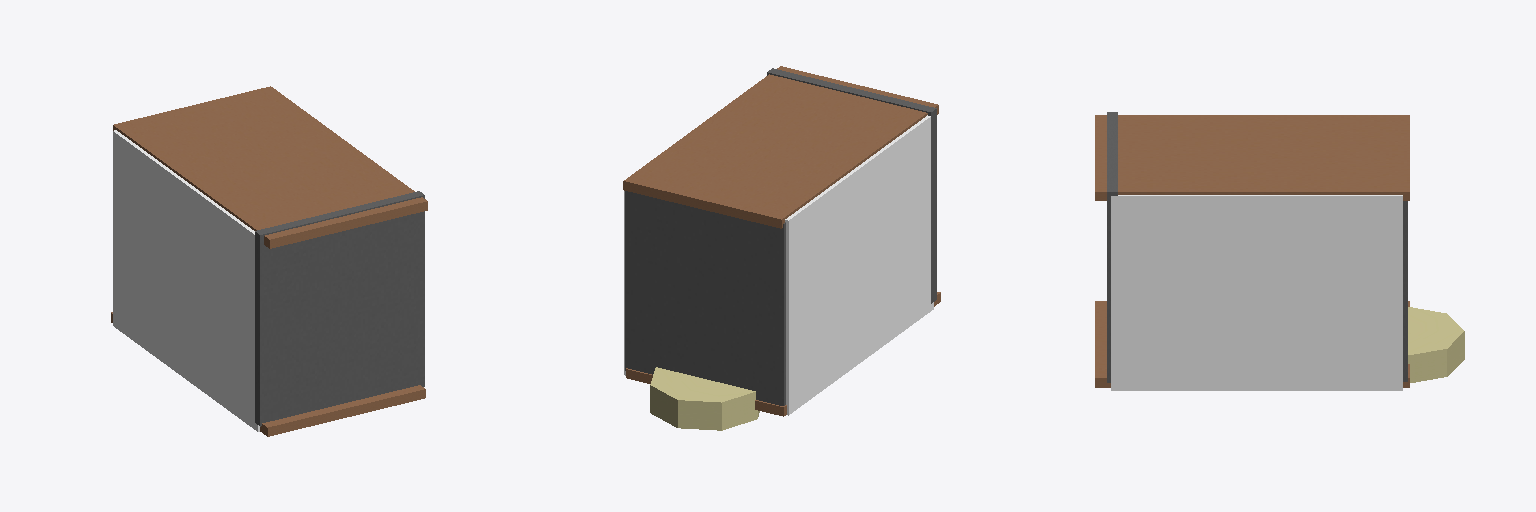
3 renders of one model, left to right at view 1: azimuth 30°, elevation 25°; view 2: azimuth 150°, elevation 25°; view 3: azimuth 270°, elevation 25°, orthographic.
Parts seen in each view (by area): view 1: Box001, Box008, Box006, Box005; view 2: Box008, Box002, Box006, Cylinder001, Box001, Box005; view 3: Box007, Box006, Cylinder001, Box001, Box005, Box002.
Boxes of the visible parts, x1=… form: Box001: x1=255, y1=191, x2=424, y2=426; Box008: x1=113, y1=130, x2=259, y2=431; Box006: x1=113, y1=86, x2=427, y2=248; Box005: x1=111, y1=312, x2=425, y2=436; Box008: x1=785, y1=115, x2=933, y2=415; Box002: x1=625, y1=191, x2=785, y2=405; Box006: x1=623, y1=66, x2=938, y2=228; Cylinder001: x1=650, y1=367, x2=759, y2=430; Box001: x1=767, y1=68, x2=936, y2=303; Box005: x1=626, y1=292, x2=940, y2=416; Box007: x1=1111, y1=195, x2=1402, y2=390; Box006: x1=1095, y1=115, x2=1409, y2=200; Cylinder001: x1=1408, y1=307, x2=1464, y2=382; Box001: x1=1107, y1=112, x2=1117, y2=382; Box005: x1=1095, y1=301, x2=1409, y2=387; Box002: x1=1403, y1=201, x2=1407, y2=381.
Size of the model in its own units: 22.27 by 26.94 by 43.22.
Materials: 3 (2 with a texture image).